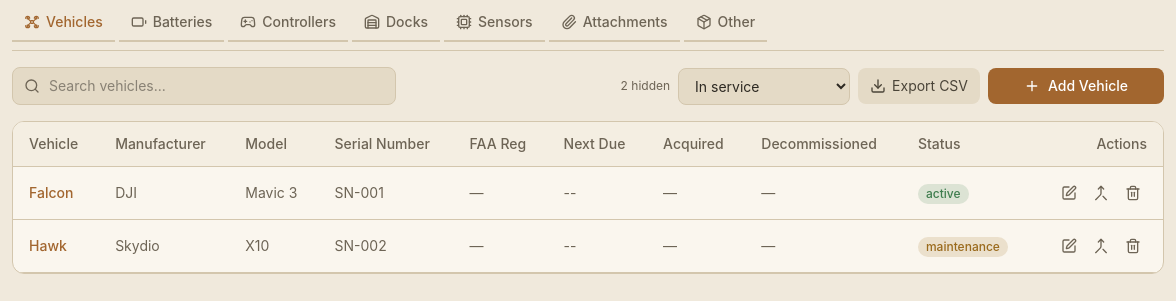
Test case: FleetPage › keeps the status filter in the right-hand group on every tab
expect the link "Falcon" is shown: met, box [29, 184, 73, 201]
expect the button "Export CSV" is shown: met, box [858, 68, 980, 104]
Click the button "Docks".
click(396, 27)  # box [352, 12, 440, 42]
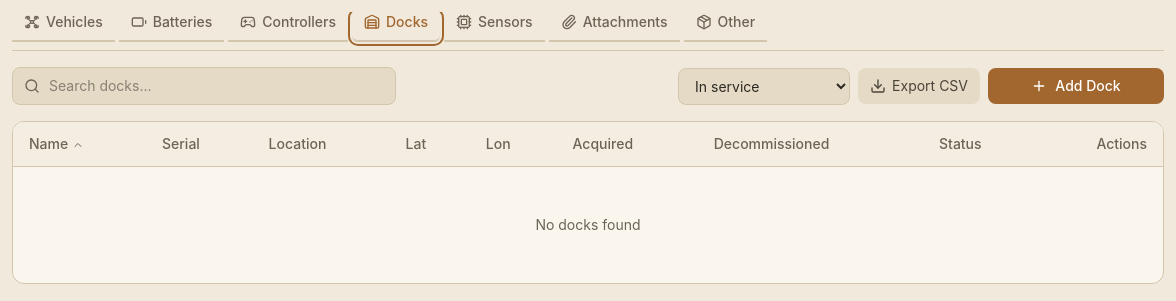
expect the button "Export CSV" is shown: met, box [858, 68, 980, 104]
expect the button "Add Dock" is shown: met, box [988, 68, 1164, 104]
